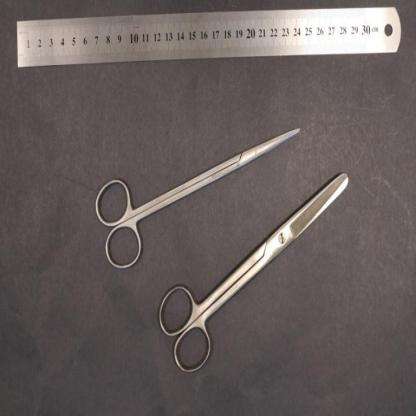7 Metzenbaum Scissors: (94, 128, 300, 272)
Dressing Scissors: (157, 173, 348, 375)
